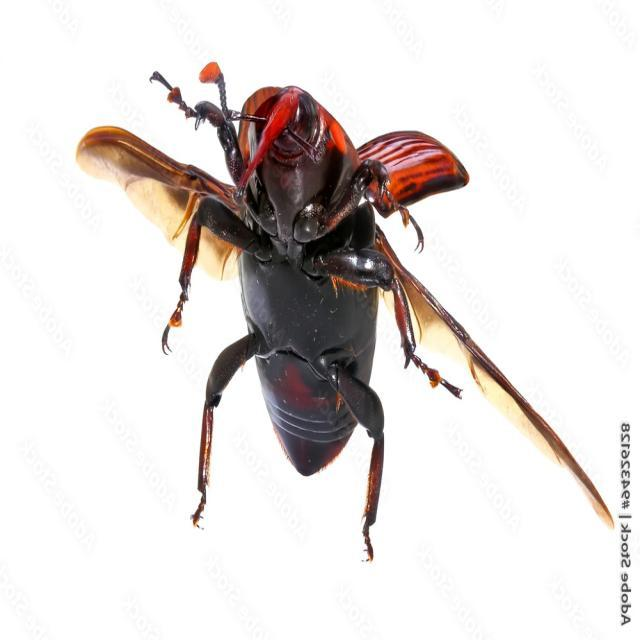Red-palm-weevil: (158, 59, 438, 580)
